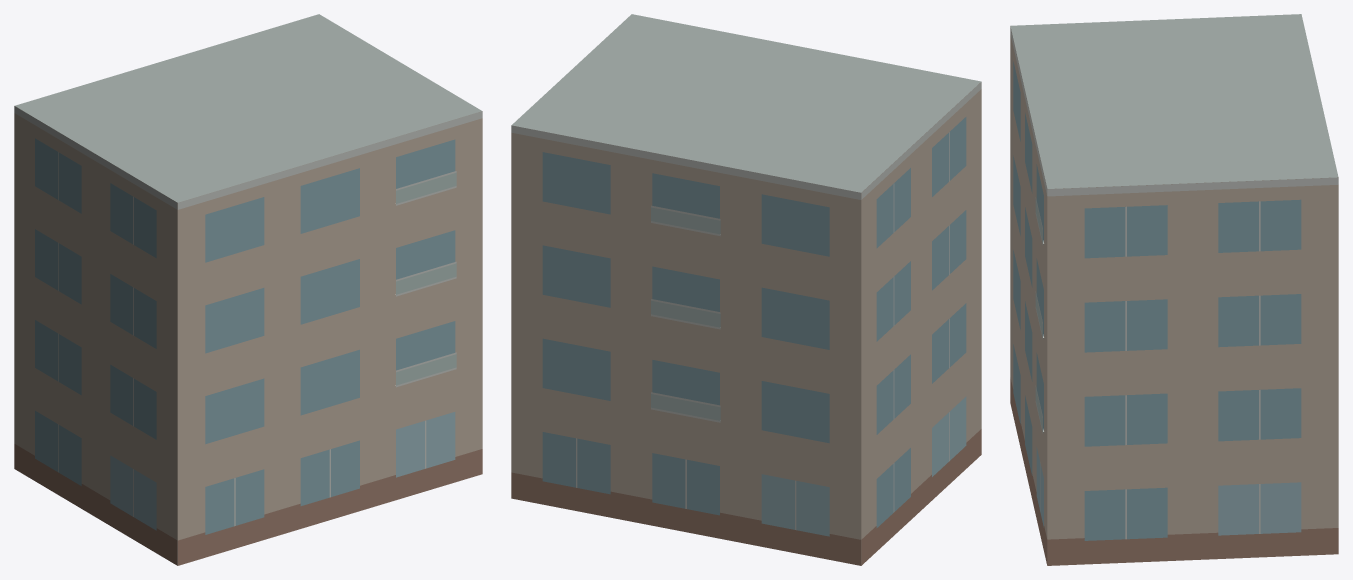
File: survey-upis-32655445.glb
3 views of the same model, side by side, from view 1: azimuth 30°, elevation 25°; view 2: azimuth 150°, elevation 25°; view 3: azimuth 270°, elevation 25° (orthographic). The views are drawn at different scales.
Visible parts, largest first — view 1: survey-upis-32655445.tmp; view 2: survey-upis-32655445.tmp; view 3: survey-upis-32655445.tmp.
Part boxes in pixels (x1,y1,x2,y2): survey-upis-32655445.tmp: (14,14,482,565); survey-upis-32655445.tmp: (511,14,981,565); survey-upis-32655445.tmp: (1010,14,1338,565).
Bounding box in the file's own units: 12.37 × 12.4 × 9.8.
